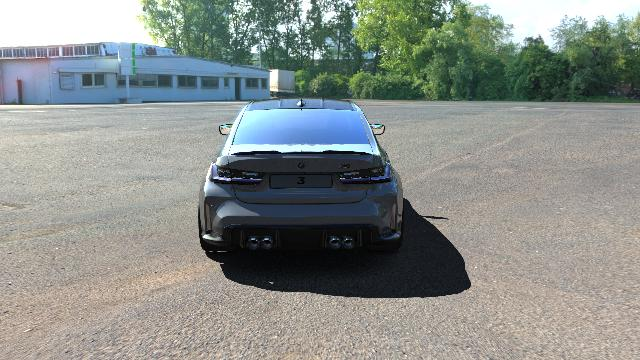License Plate: (270, 174, 332, 190)
